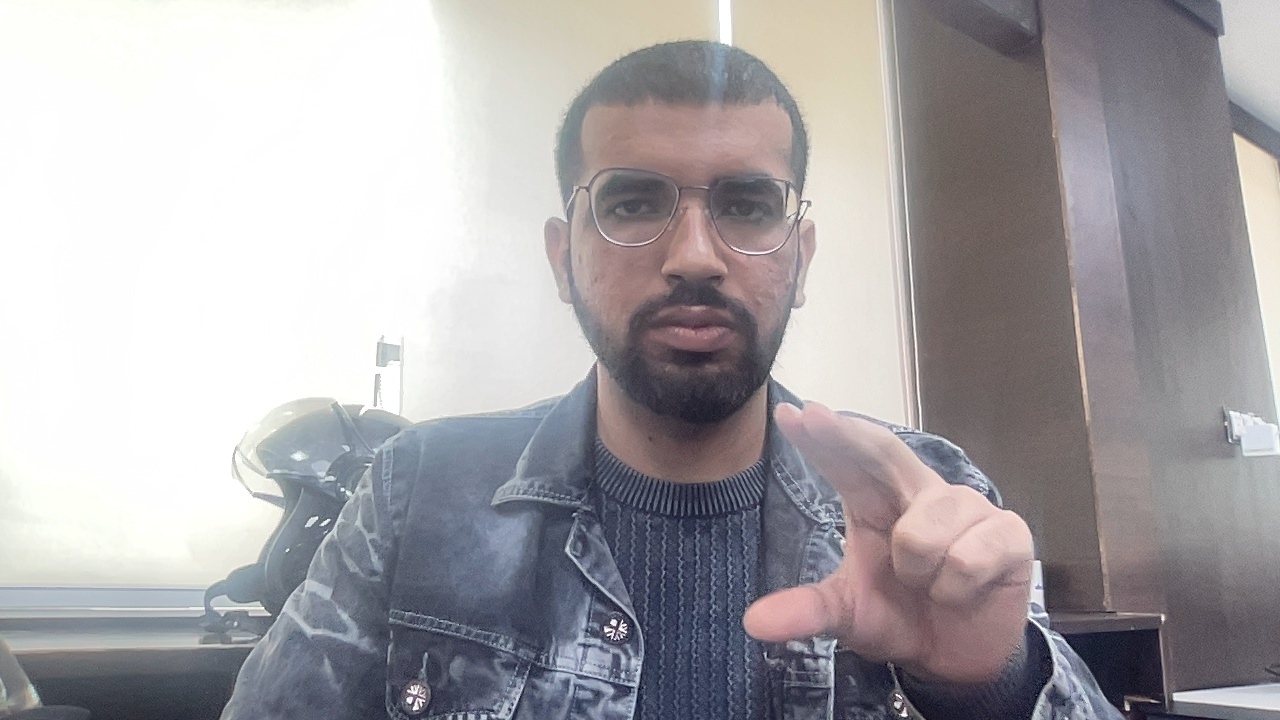No: (715, 375, 1087, 717)
